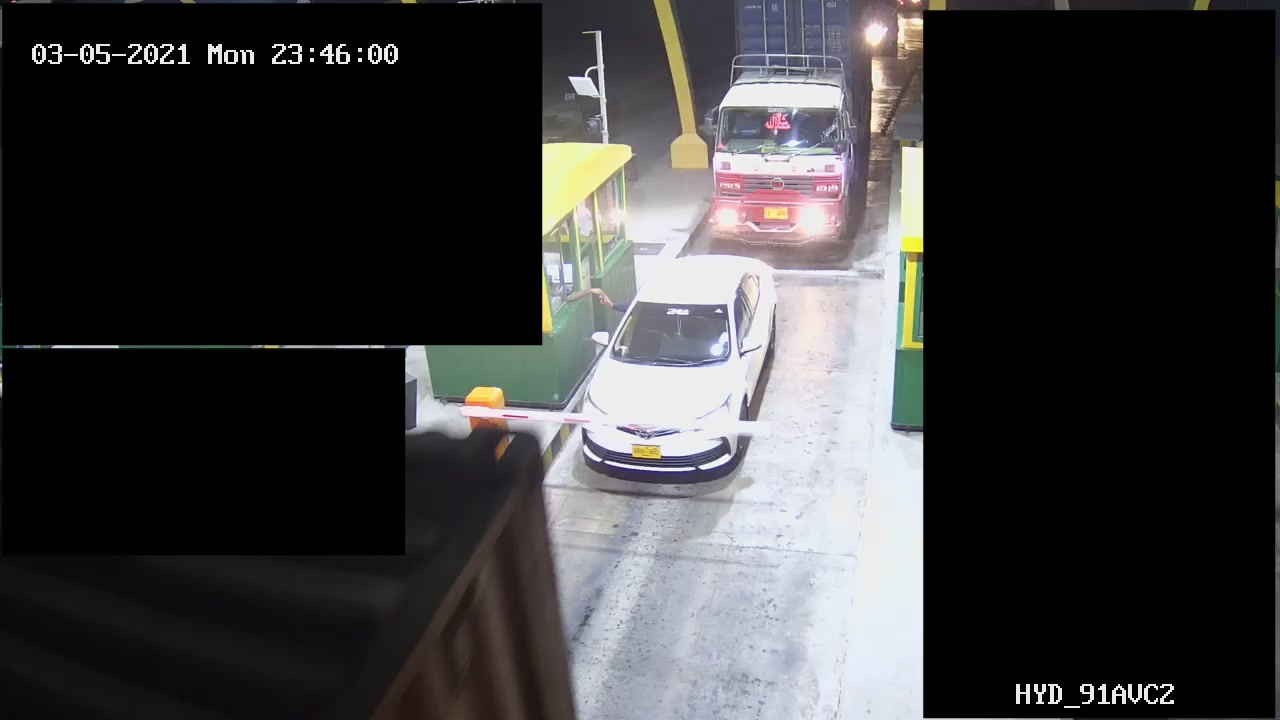F1: (573, 253, 785, 481)
